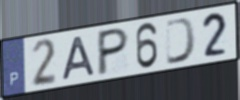2: (200, 10, 231, 61), (29, 38, 58, 90)
6: (134, 22, 159, 71)
A: (61, 35, 98, 82)
D: (164, 16, 198, 67)
P: (95, 25, 130, 79)
